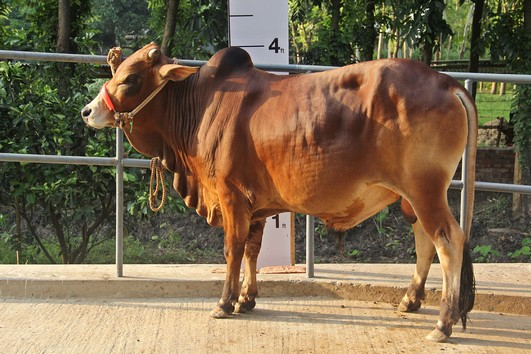cow: (76, 30, 486, 349)
